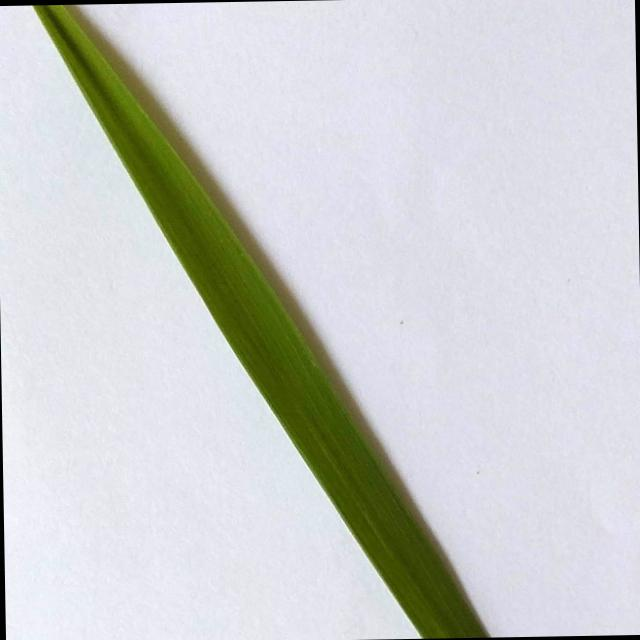Rice_Healthy: (33, 4, 489, 638)
